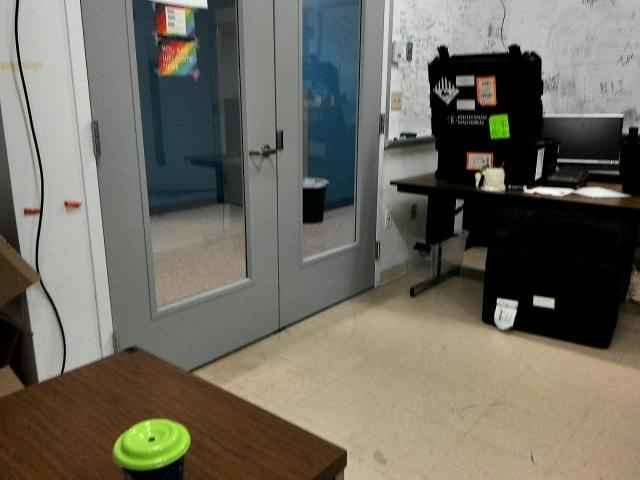useless_cup: (111, 421, 190, 480)
